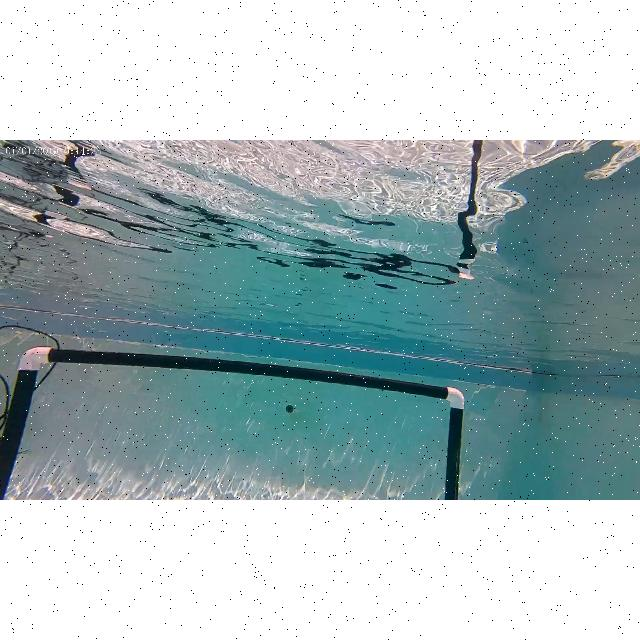prequal gate: (1, 348, 461, 499)
prequal gate leg l: (2, 344, 52, 500)
prequal gate leg r: (429, 376, 473, 500)
